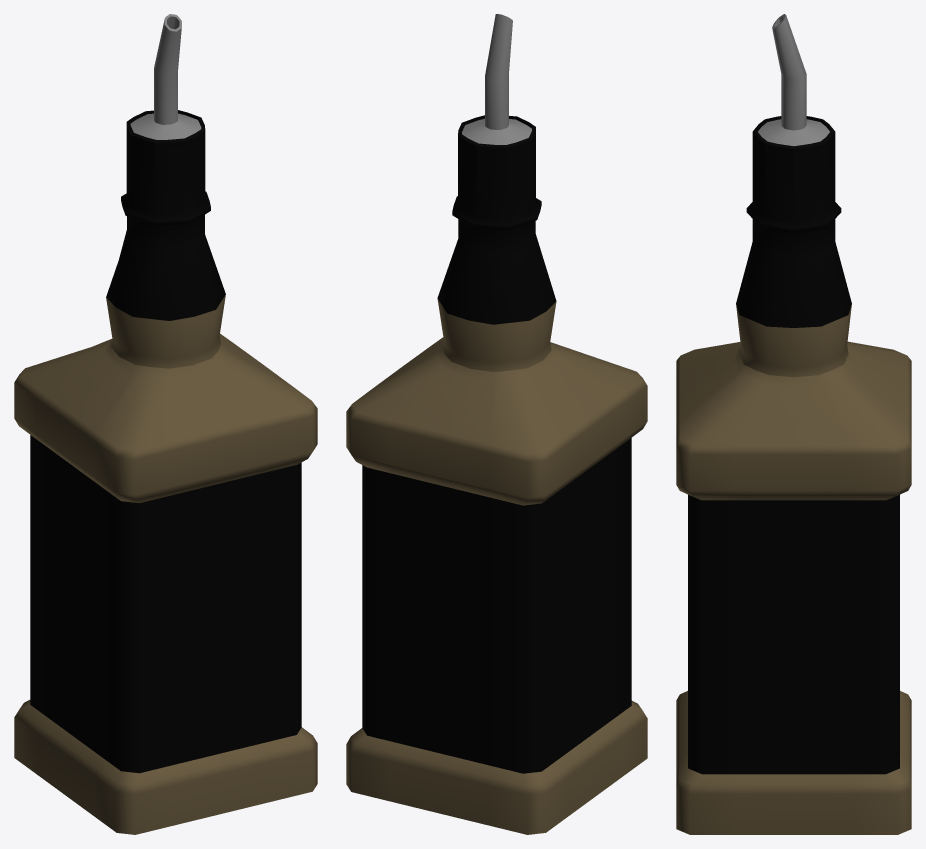
File: nyack_danyiels.fbx
The picture shows the model from 3 angles, left to right: view 1: azimuth 30°, elevation 25°; view 2: azimuth 150°, elevation 25°; view 3: azimuth 270°, elevation 25°; orthographic projection. The views are drawn at different scales.
Visible parts, largest first — view 1: pCube3; view 2: pCube3; view 3: pCube3.
Boxes of the visible parts, box(x1,y1,x2,y2) form: pCube3: box(14, 14, 317, 834); pCube3: box(346, 14, 647, 834); pCube3: box(676, 14, 911, 834).
Size of the model in its own units: 1.08 by 3.88 by 1.08.
